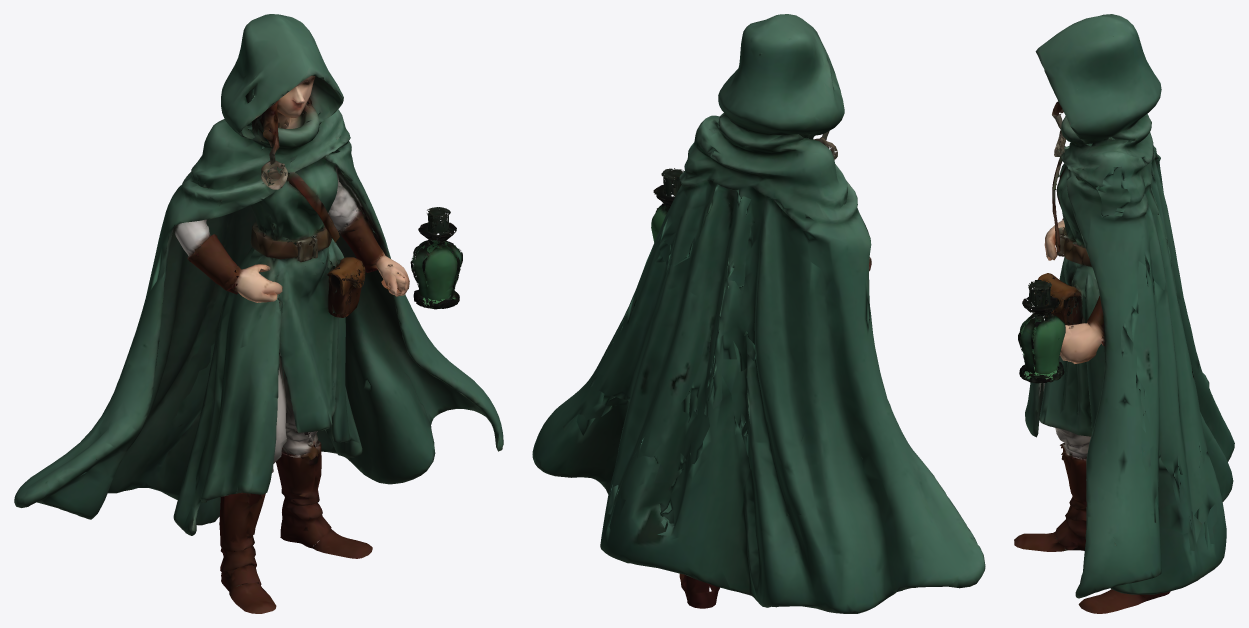
The model's file is fig_npc_mira.glb.
3 renders of one model, left to right at view 1: azimuth 30°, elevation 25°; view 2: azimuth 150°, elevation 25°; view 3: azimuth 270°, elevation 25°, orthographic. The views are drawn at different scales.
Visible parts, largest first — view 1: geometry_0; view 2: geometry_0; view 3: geometry_0.
Boxes of the visible parts, x1,y1,x2,y2 form: geometry_0: [14, 14, 503, 613]; geometry_0: [532, 14, 985, 613]; geometry_0: [1014, 14, 1234, 613].
Size of the model in its own units: 0.798 by 0.9348 by 0.3385.
Materials: 1 (1 with a texture image).
